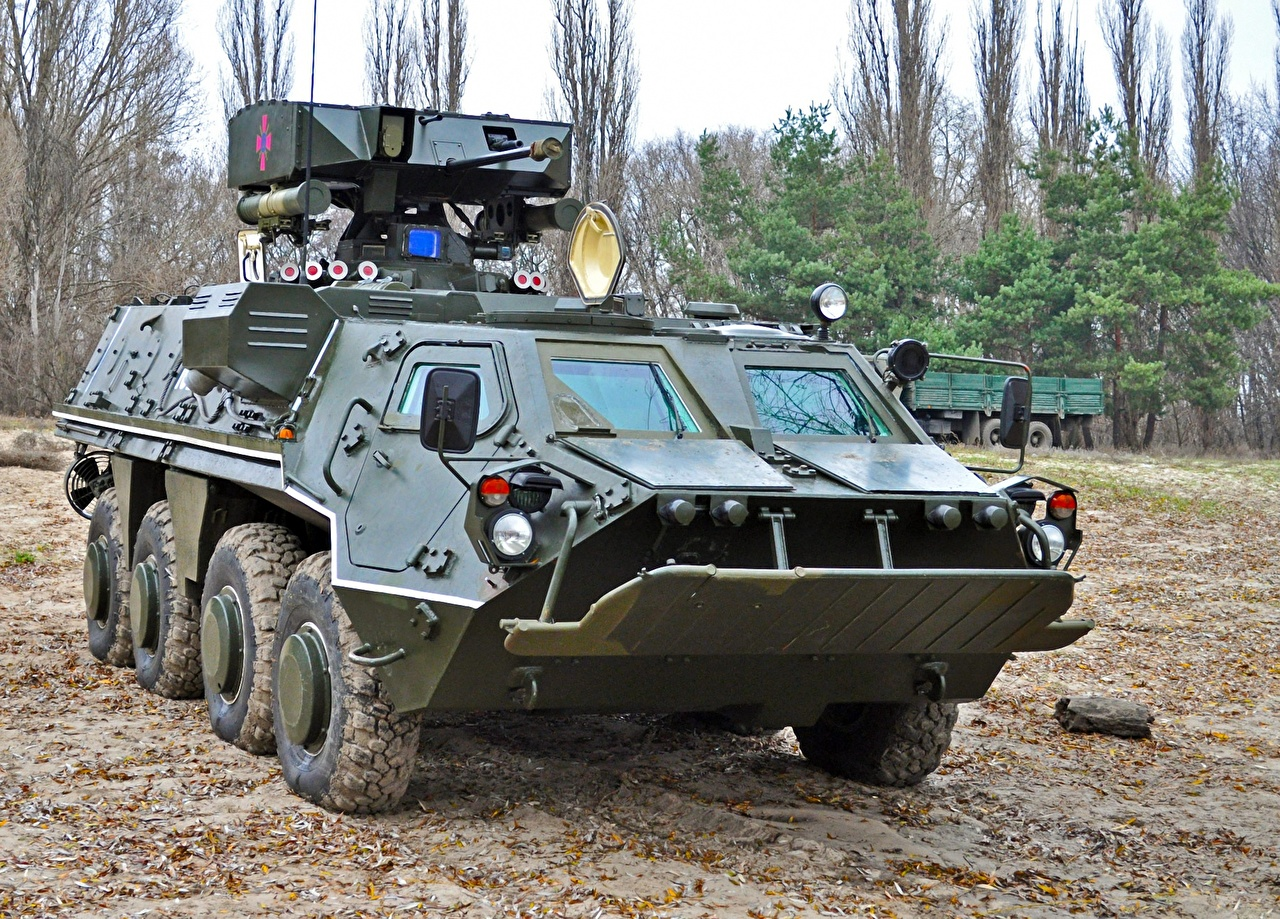btr: (42, 102, 1070, 816)
